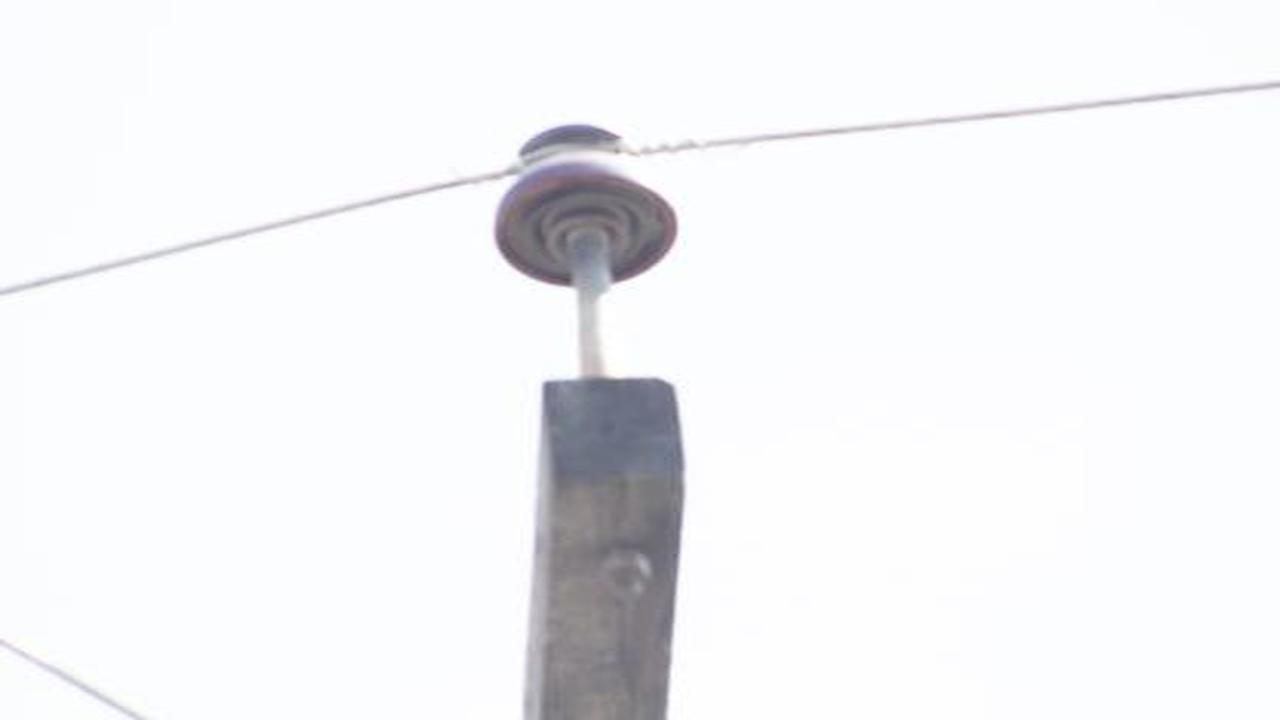insulator_pin: (489, 120, 683, 286)
